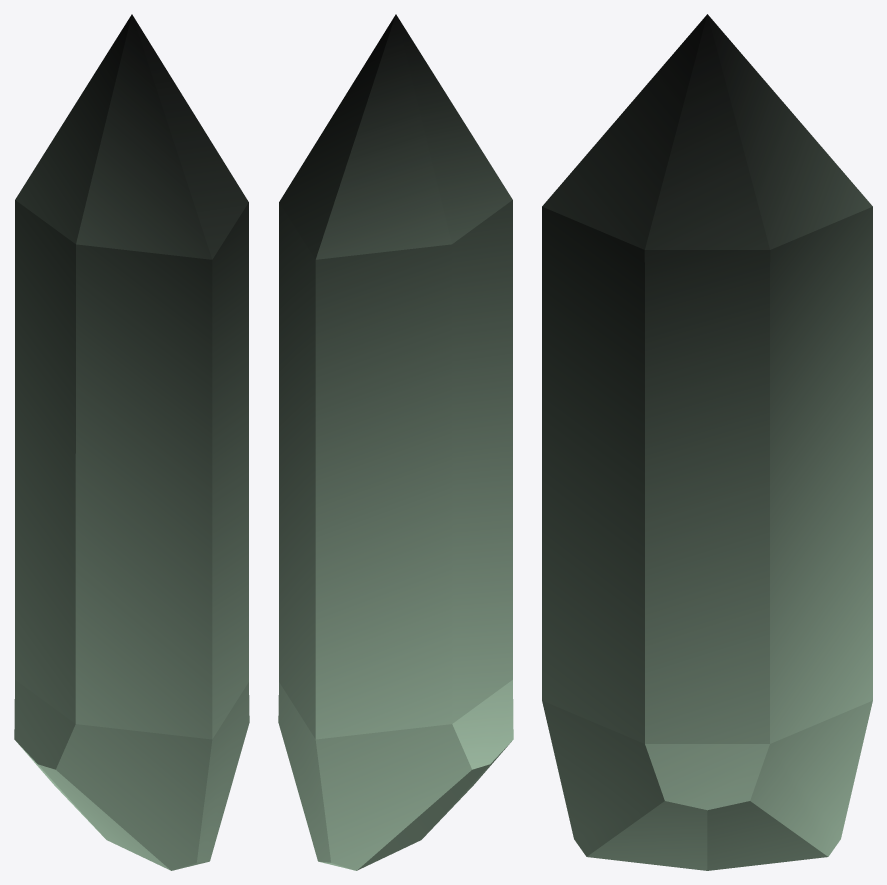
Rendered from Neptunite.fbx.
3 views of the same model, side by side, from view 1: azimuth 30°, elevation 25°; view 2: azimuth 150°, elevation 25°; view 3: azimuth 270°, elevation 25° (orthographic). The views are drawn at different scales.
Visible parts, largest first — view 1: NEPTUNITE.001; view 2: NEPTUNITE.001; view 3: NEPTUNITE.001.
Part boxes in pixels (left/top/right/bottom): NEPTUNITE.001: left=14, top=14, right=249, bottom=870; NEPTUNITE.001: left=278, top=14, right=513, bottom=870; NEPTUNITE.001: left=542, top=14, right=872, bottom=870.
Bounding box in the file's own units: 53.99 × 218 × 77.53.
Materials: 1 (1 with a texture image).
